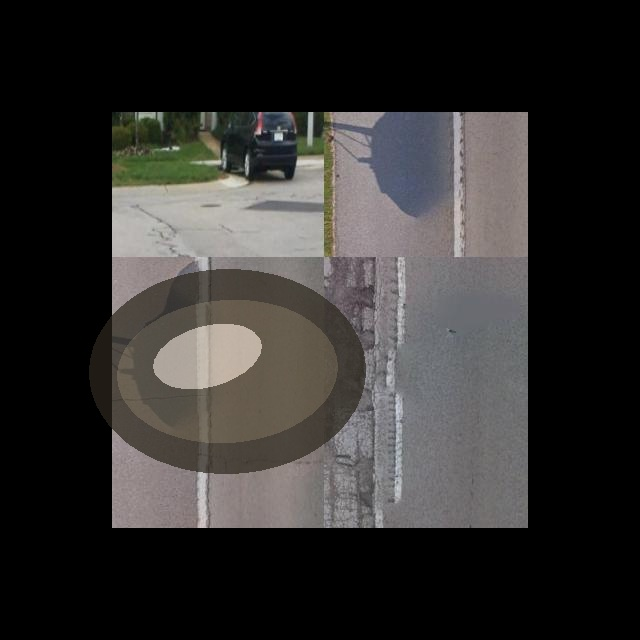waterlogging: (79, 259, 375, 483)
